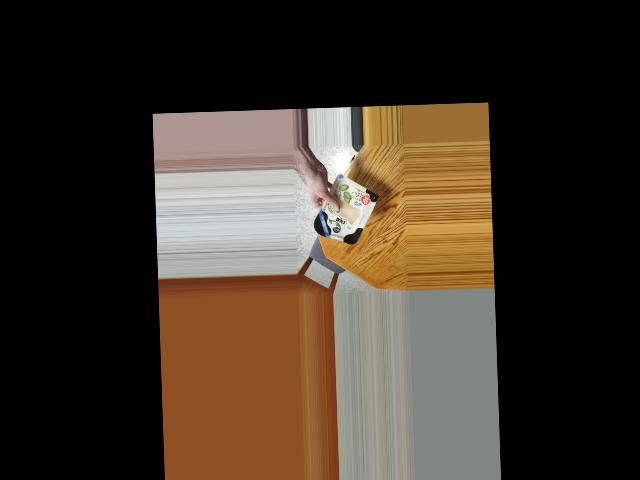cheese: (313, 181, 376, 244)
